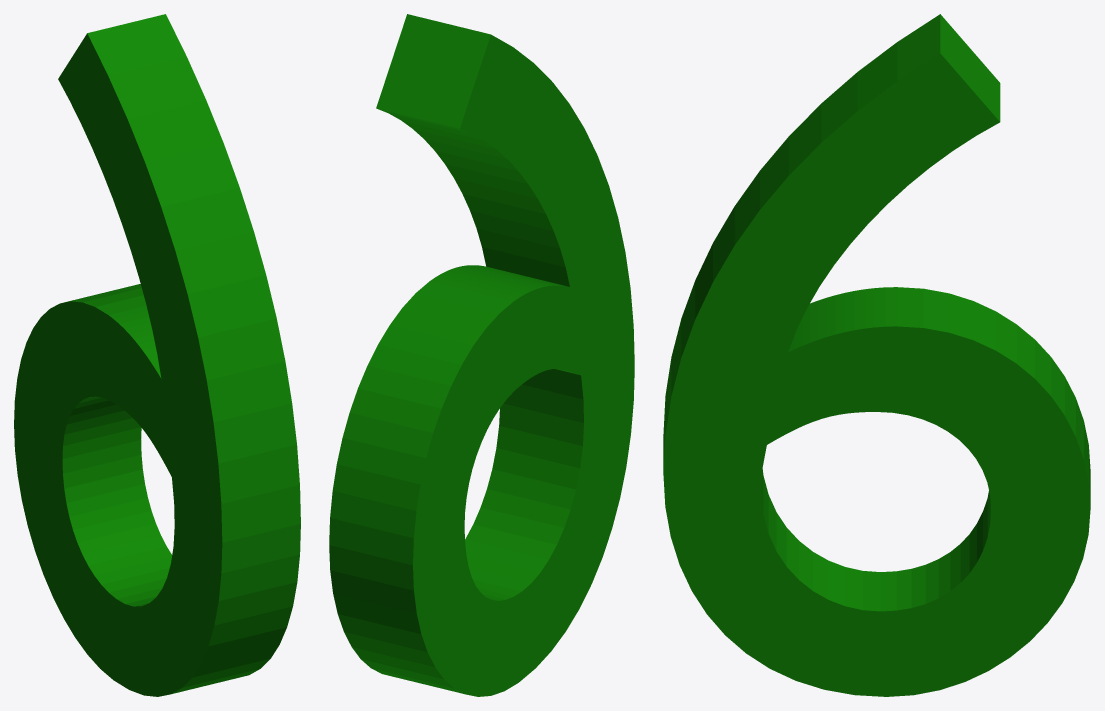
The model's file is number(6).fbx.
The picture shows the model from 3 angles, left to right: view 1: azimuth 30°, elevation 25°; view 2: azimuth 150°, elevation 25°; view 3: azimuth 270°, elevation 25°; orthographic projection. The views are drawn at different scales.
Parts seen in each view (by area): view 1: Text; view 2: Text; view 3: Text.
Part boxes in pixels (x1,y1,x2,y2): Text: [14, 14, 300, 696]; Text: [329, 14, 634, 696]; Text: [663, 14, 1090, 696].
Size of the model in its own units: 9.18 by 70 by 42.1.
